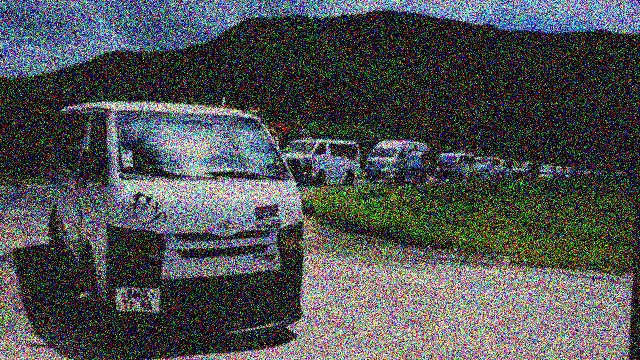van: (39, 97, 309, 360)
